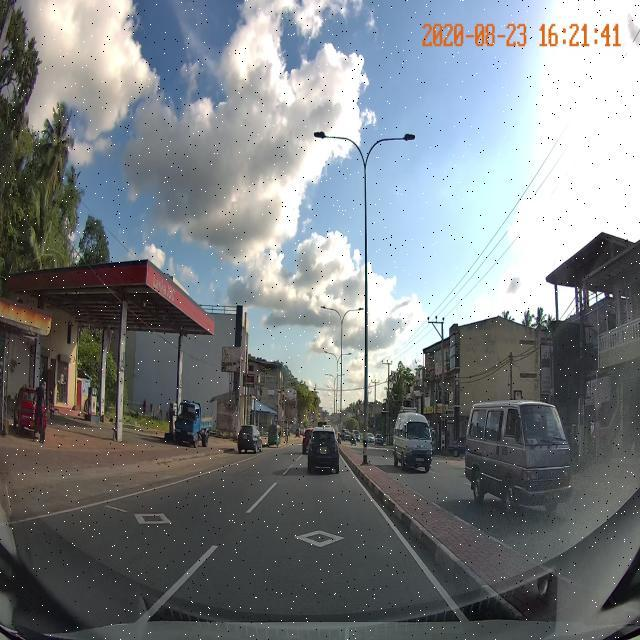diamond: (205, 502, 416, 552)
